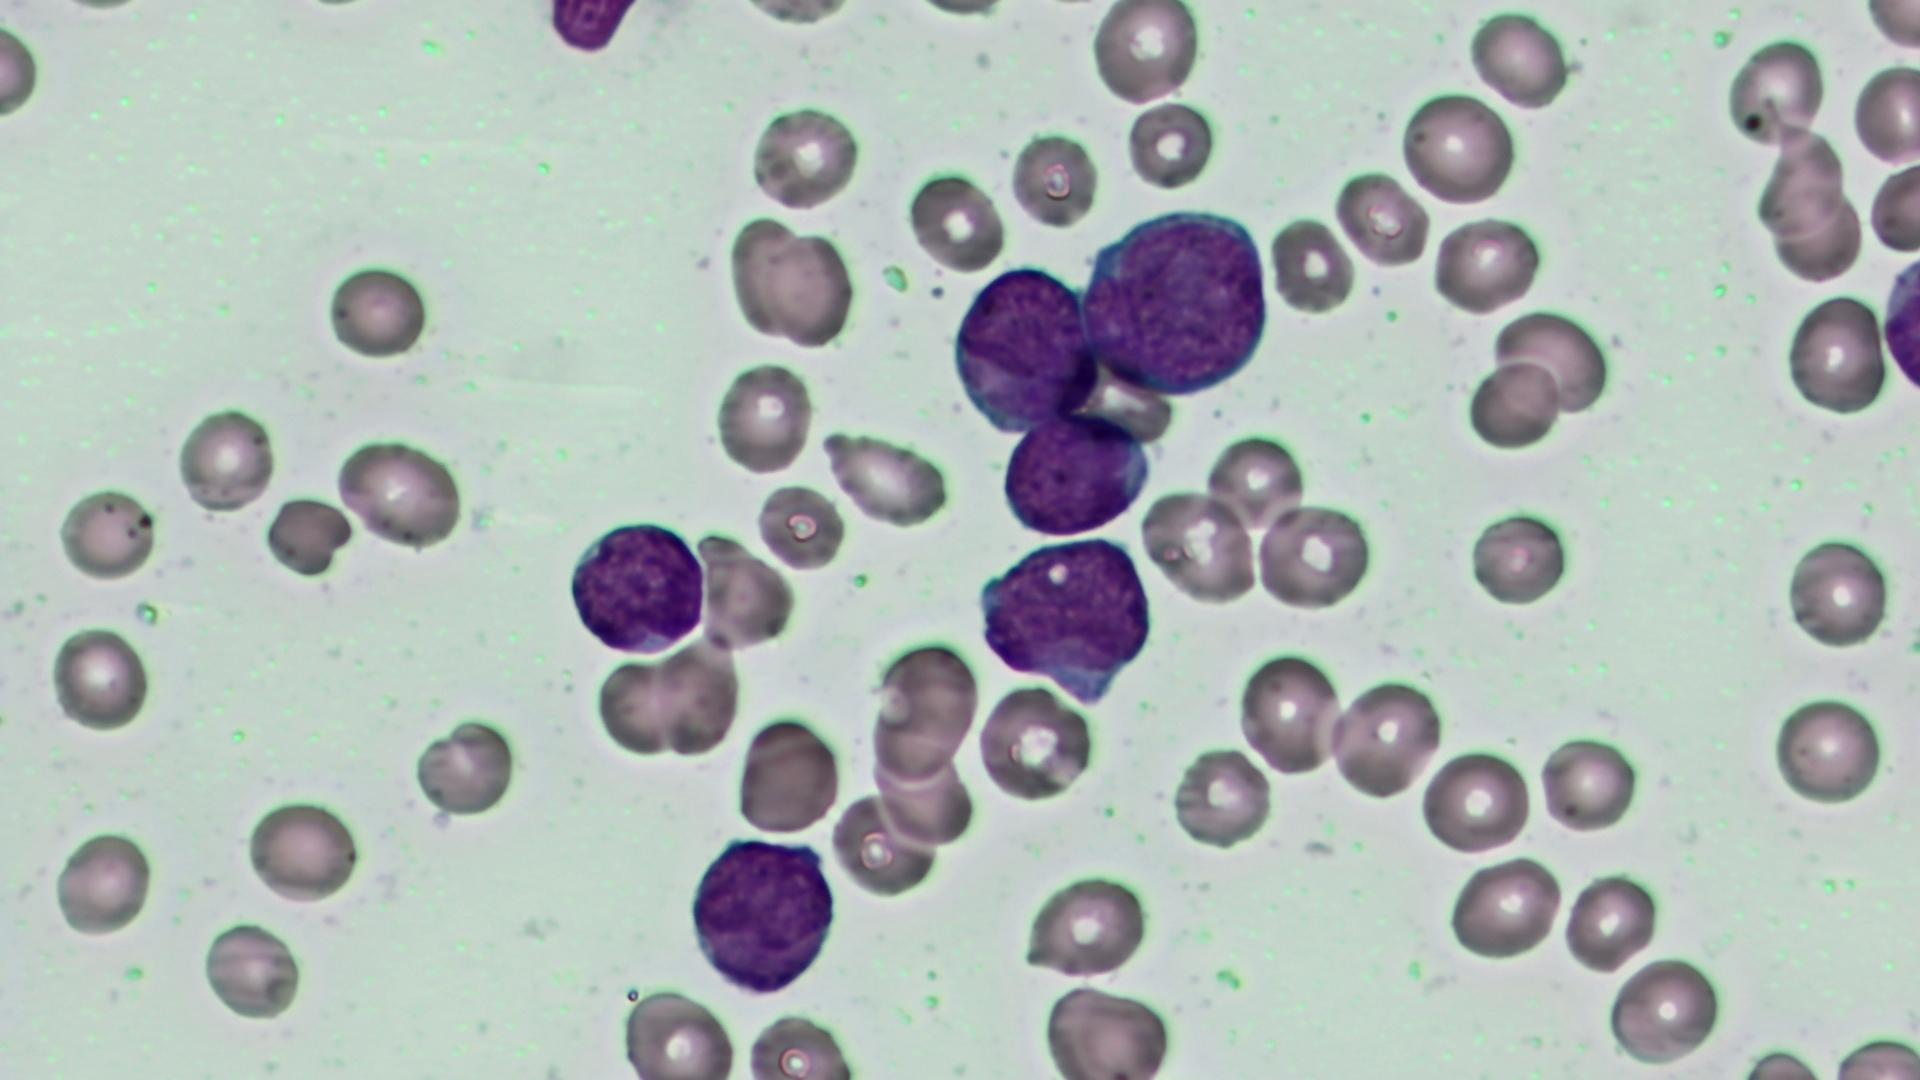RBC: (945, 264, 1102, 440), (996, 407, 1153, 541), (332, 433, 465, 554), (1233, 646, 1346, 782), (1328, 673, 1443, 804), (1767, 688, 1890, 811), (1022, 868, 1151, 982), (976, 680, 1091, 808), (1779, 530, 1896, 654), (1141, 483, 1258, 607), (818, 423, 952, 530), (1487, 307, 1611, 421), (1036, 978, 1180, 1076), (1398, 90, 1515, 208), (1604, 952, 1726, 1065), (240, 794, 364, 906), (1784, 286, 1888, 418), (1418, 742, 1534, 857), (1444, 855, 1563, 967), (1253, 501, 1371, 612), (709, 355, 815, 479), (407, 709, 521, 824), (746, 99, 860, 214), (733, 713, 837, 837), (1724, 32, 1828, 156), (47, 825, 160, 940), (1085, 1, 1203, 111), (171, 400, 277, 514), (320, 256, 433, 363), (47, 622, 153, 736), (698, 535, 796, 655), (761, 227, 857, 349), (1428, 212, 1544, 314), (1168, 740, 1273, 851), (723, 208, 808, 343), (647, 641, 742, 762), (1203, 429, 1309, 535), (1462, 506, 1575, 608), (617, 984, 738, 1077), (1536, 731, 1644, 833), (1465, 7, 1569, 112), (53, 483, 158, 584), (907, 166, 1006, 274), (1563, 868, 1662, 976), (1007, 123, 1102, 233), (1766, 185, 1869, 285), (593, 651, 684, 764), (1269, 208, 1358, 319), (1331, 167, 1429, 266), (1462, 357, 1564, 450), (1122, 99, 1216, 195), (738, 1009, 858, 1079), (264, 491, 356, 576), (1878, 227, 1920, 414), (1850, 59, 1917, 167), (541, 3, 645, 57), (1866, 157, 1920, 253), (1828, 1033, 1917, 1077), (1855, 0, 1920, 53)
WBC: (1084, 200, 1278, 400), (972, 533, 1160, 703), (682, 829, 843, 1000), (953, 262, 1104, 430), (992, 407, 1163, 543), (562, 514, 709, 661), (1878, 228, 1920, 415)
